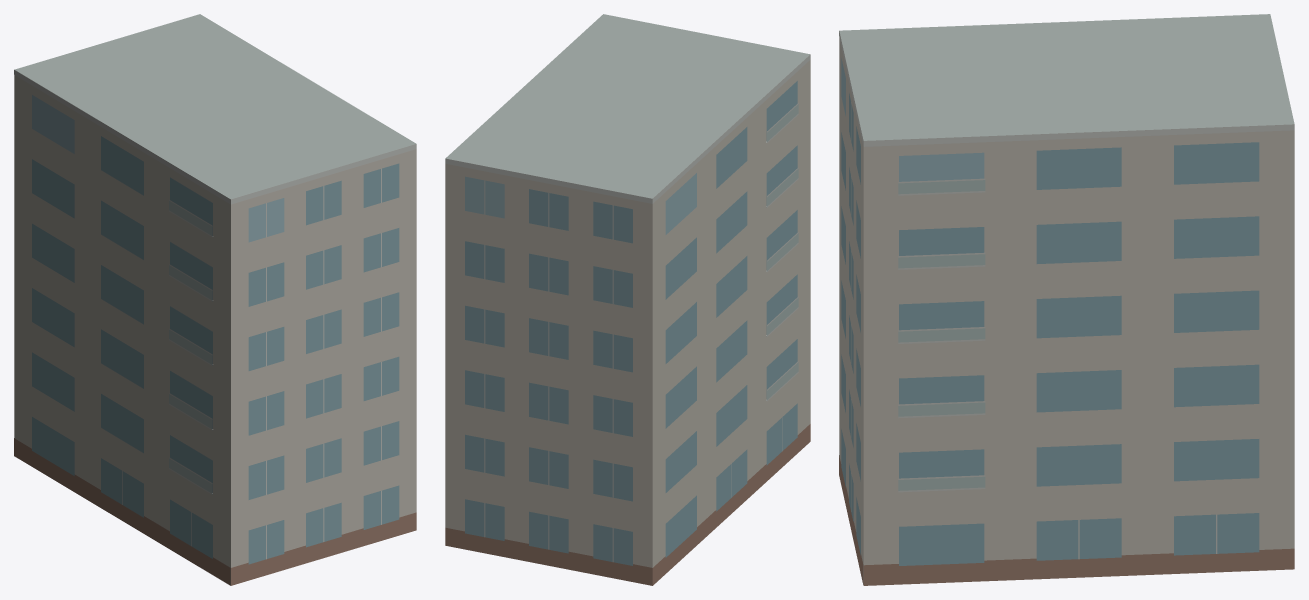
File: survey-upis-32635295.glb
3 renders of one model, left to right at view 1: azimuth 30°, elevation 25°; view 2: azimuth 150°, elevation 25°; view 3: azimuth 270°, elevation 25°, orthographic. The views are drawn at different scales.
Visible parts, largest first — view 1: survey-upis-32635295.tmp; view 2: survey-upis-32635295.tmp; view 3: survey-upis-32635295.tmp.
Part boxes in pixels (x1=…): survey-upis-32635295.tmp: x1=14, y1=14, x2=416, y2=585; survey-upis-32635295.tmp: x1=445, y1=14, x2=810, y2=585; survey-upis-32635295.tmp: x1=839, y1=14, x2=1294, y2=585.
Bounding box in the file's own units: 11.2 × 18.3 × 16.98.
